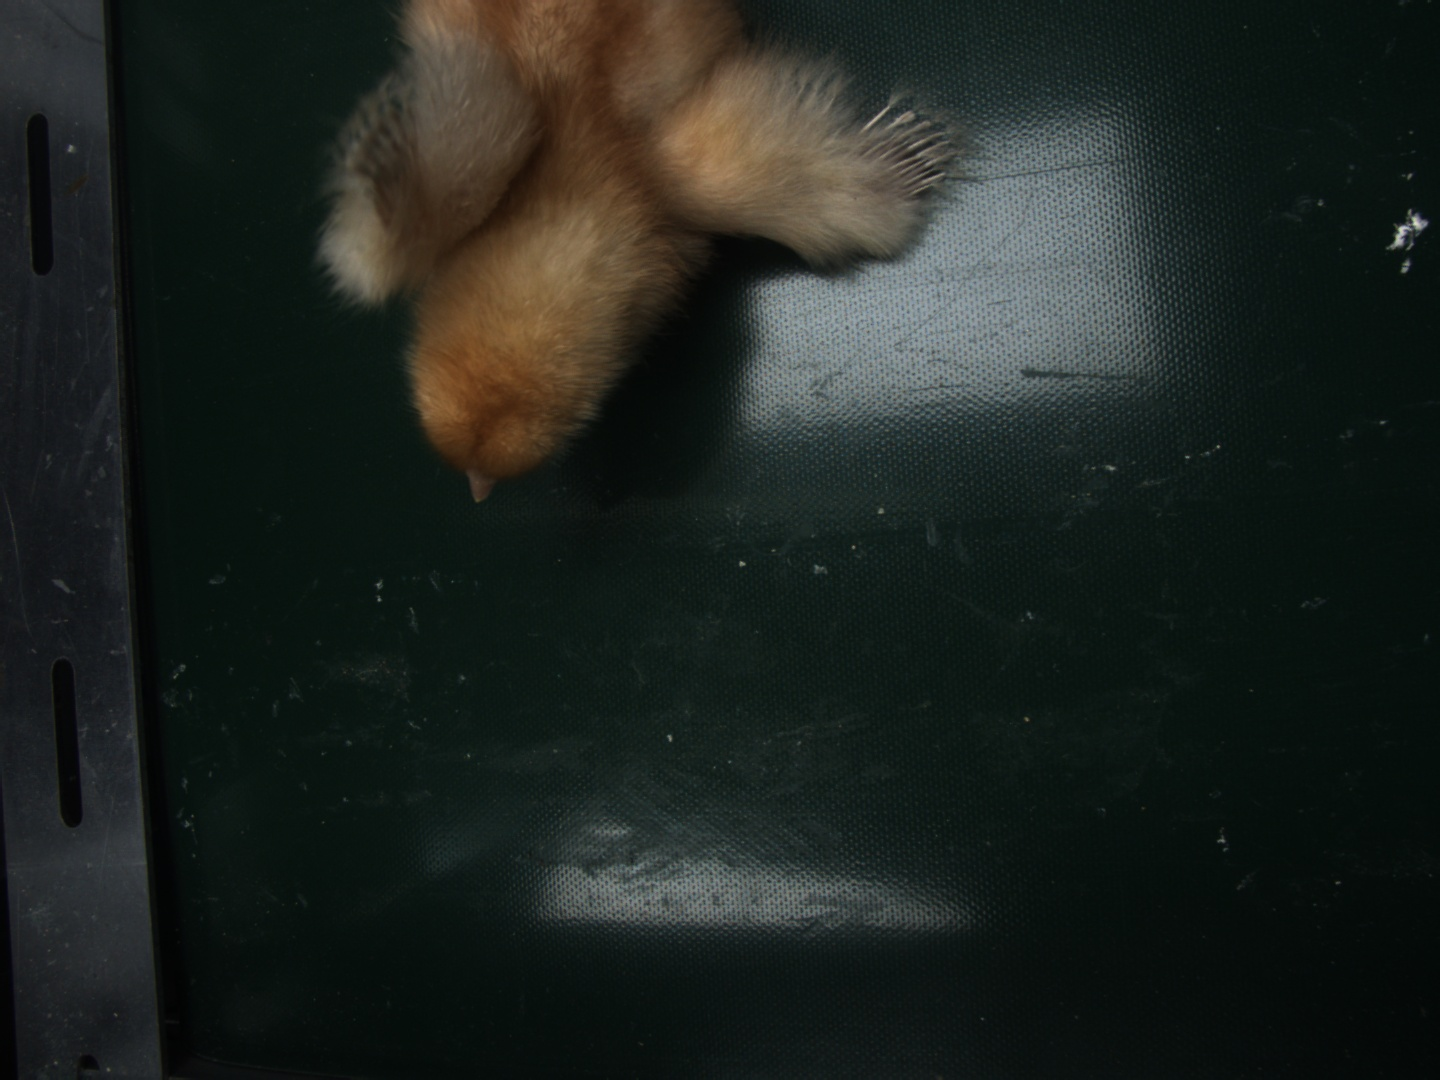female: (855, 101, 960, 206)
